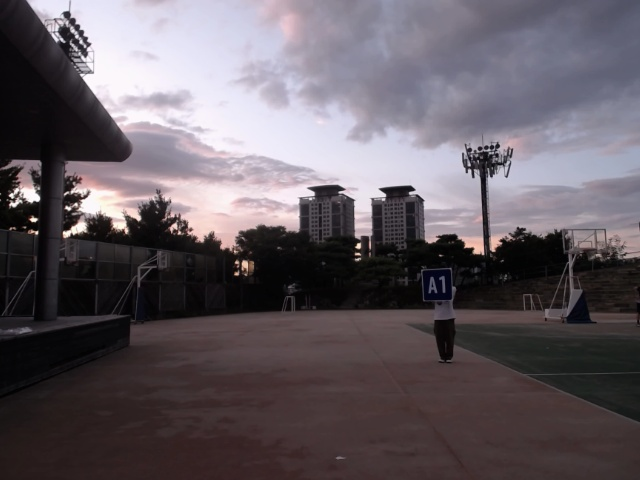delivery_a1: (421, 269, 452, 301)
